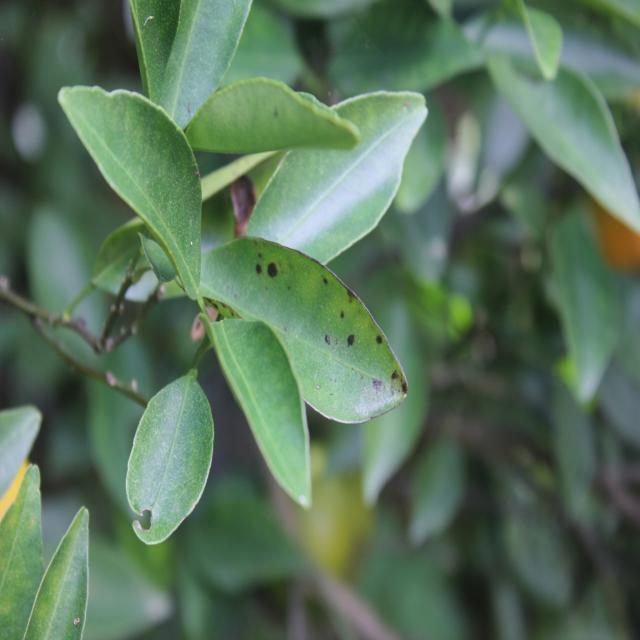blackspot: (251, 252, 404, 436)
